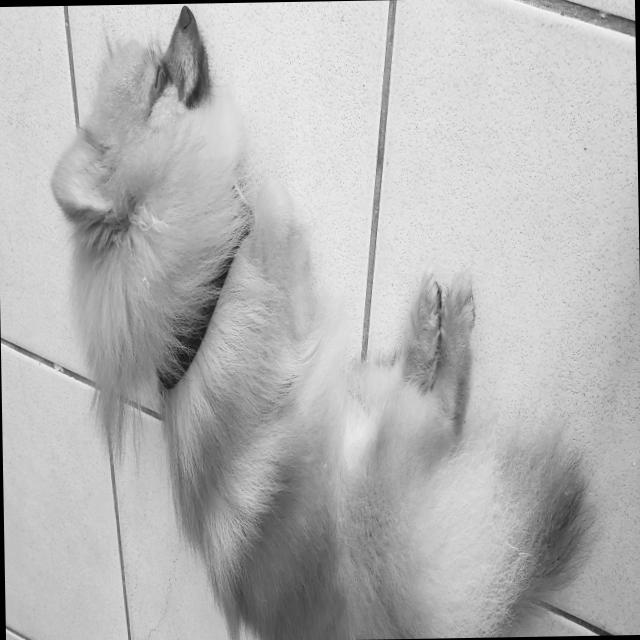laying down: (45, 0, 600, 640)
